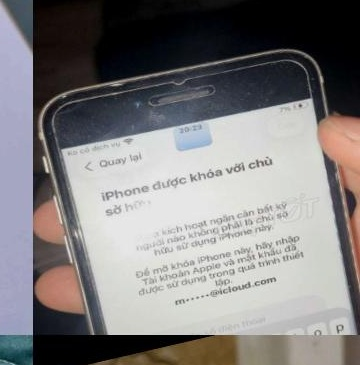scratch: (49, 46, 246, 109), (45, 156, 88, 256), (35, 107, 109, 149), (128, 101, 182, 134)
